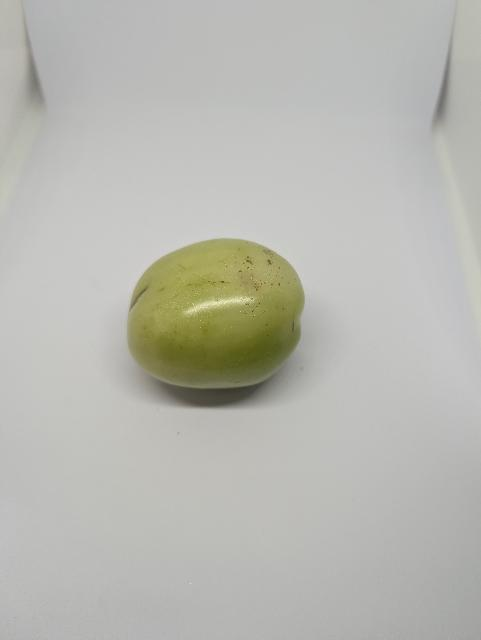green: (125, 237, 308, 392)
